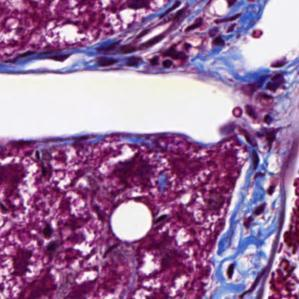inflammation: (89, 28, 198, 70), (236, 102, 282, 171), (262, 54, 293, 95), (238, 197, 273, 232)
